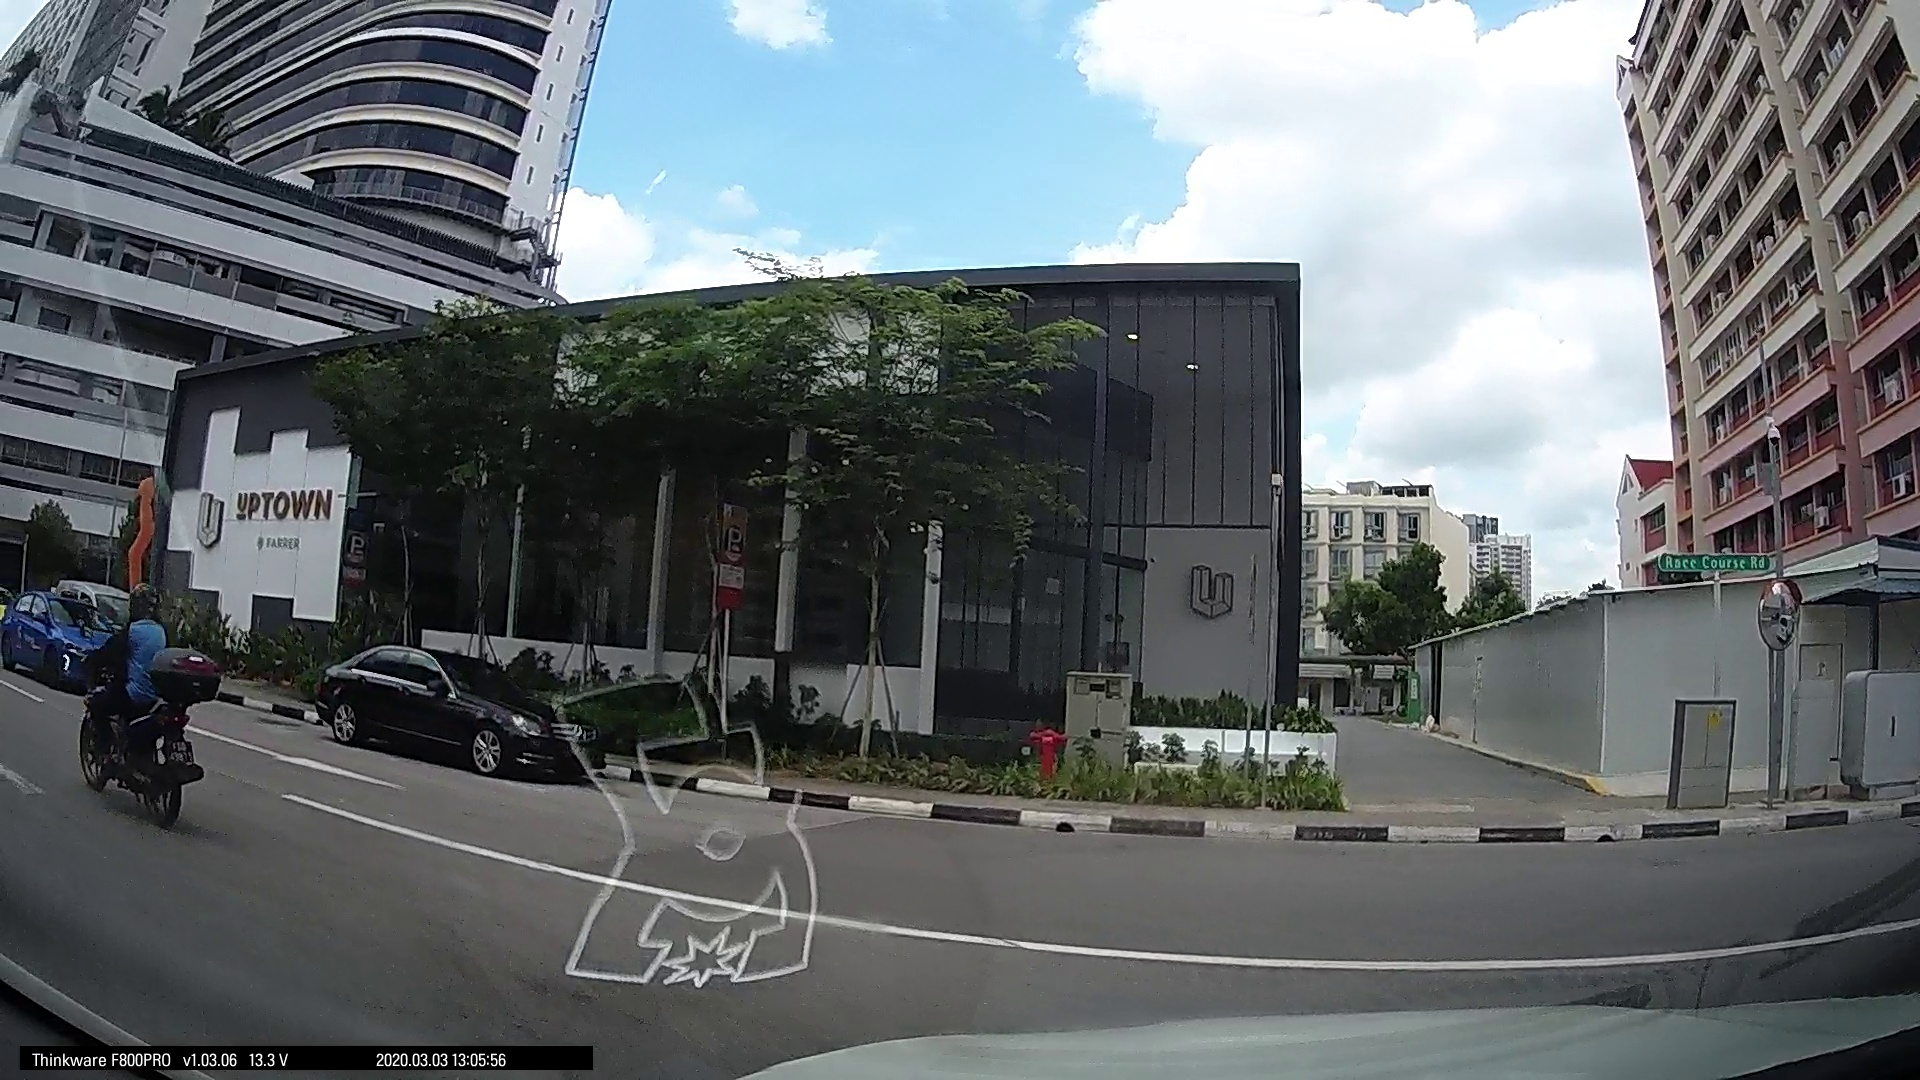Light Vehicle: (313, 640, 591, 781), (1, 583, 125, 694)
Motorcycle: (59, 603, 210, 833)
